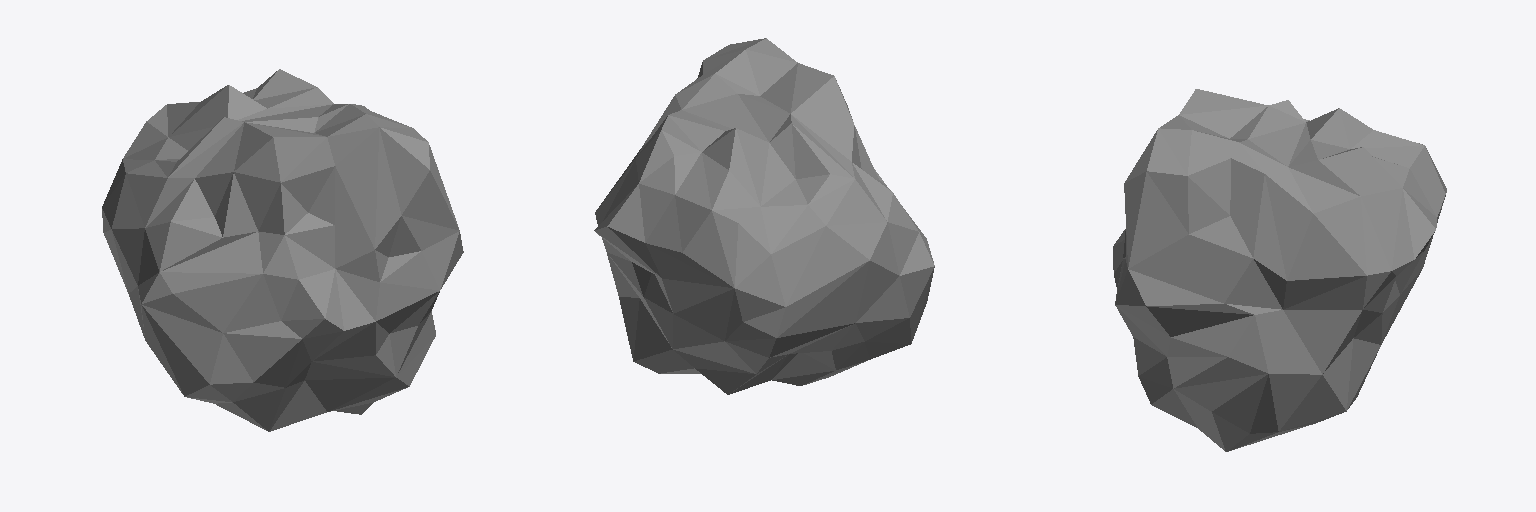
Rendered from Asteroid_9.obj.
The picture shows the model from 3 angles: view 1: azimuth 30°, elevation 25°; view 2: azimuth 150°, elevation 25°; view 3: azimuth 270°, elevation 25°; orthographic projection.
Parts seen in each view (by area): view 1: Asteroid_9; view 2: Asteroid_9; view 3: Asteroid_9.
Part boxes in pixels (bbox=[...]): Asteroid_9: bbox=[102, 69, 463, 431]; Asteroid_9: bbox=[594, 38, 934, 394]; Asteroid_9: bbox=[1113, 89, 1446, 451].
Bounding box in the file's own units: 73.69 × 79.12 × 75.9.